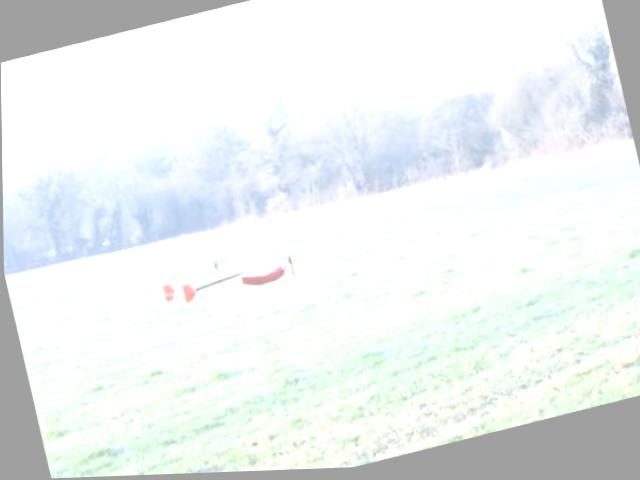uav: (157, 250, 292, 316)
